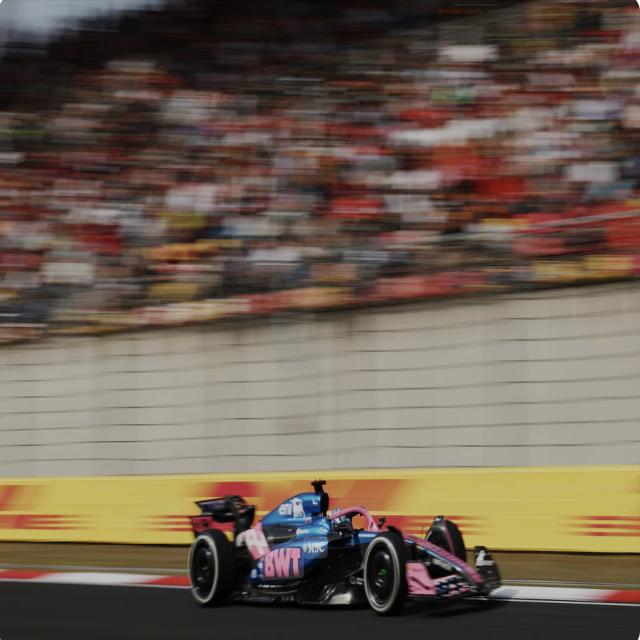Alpine: (190, 478, 503, 620)
